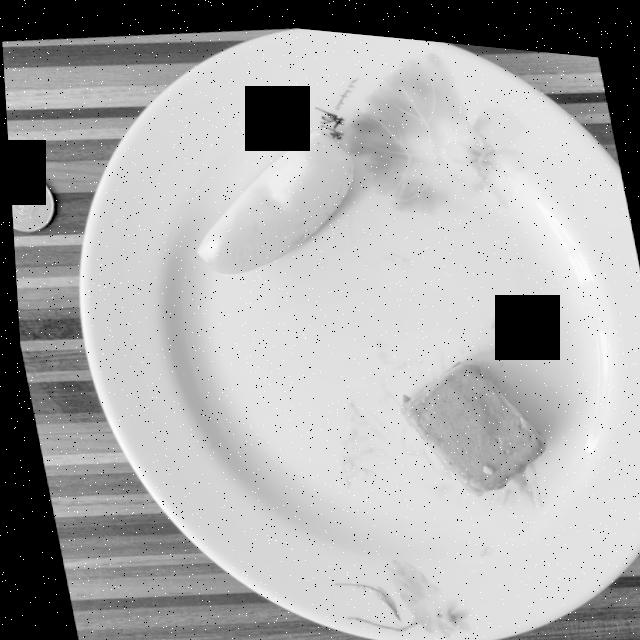apple -sliced-: (195, 124, 352, 270)
coin: (8, 171, 52, 232)
creamy tofu: (396, 351, 542, 486)
